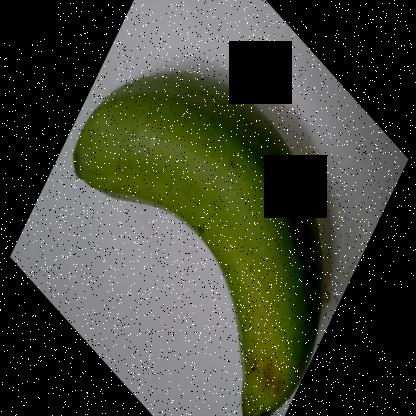freshunripe: (61, 56, 335, 415)
